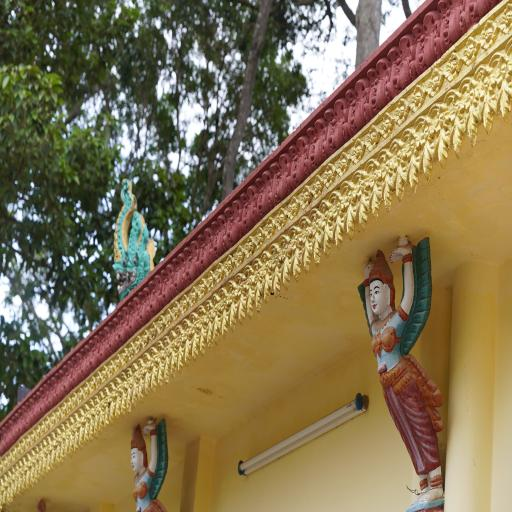ran: (99, 168, 170, 300)
than: (348, 225, 463, 512), (112, 398, 178, 512)
